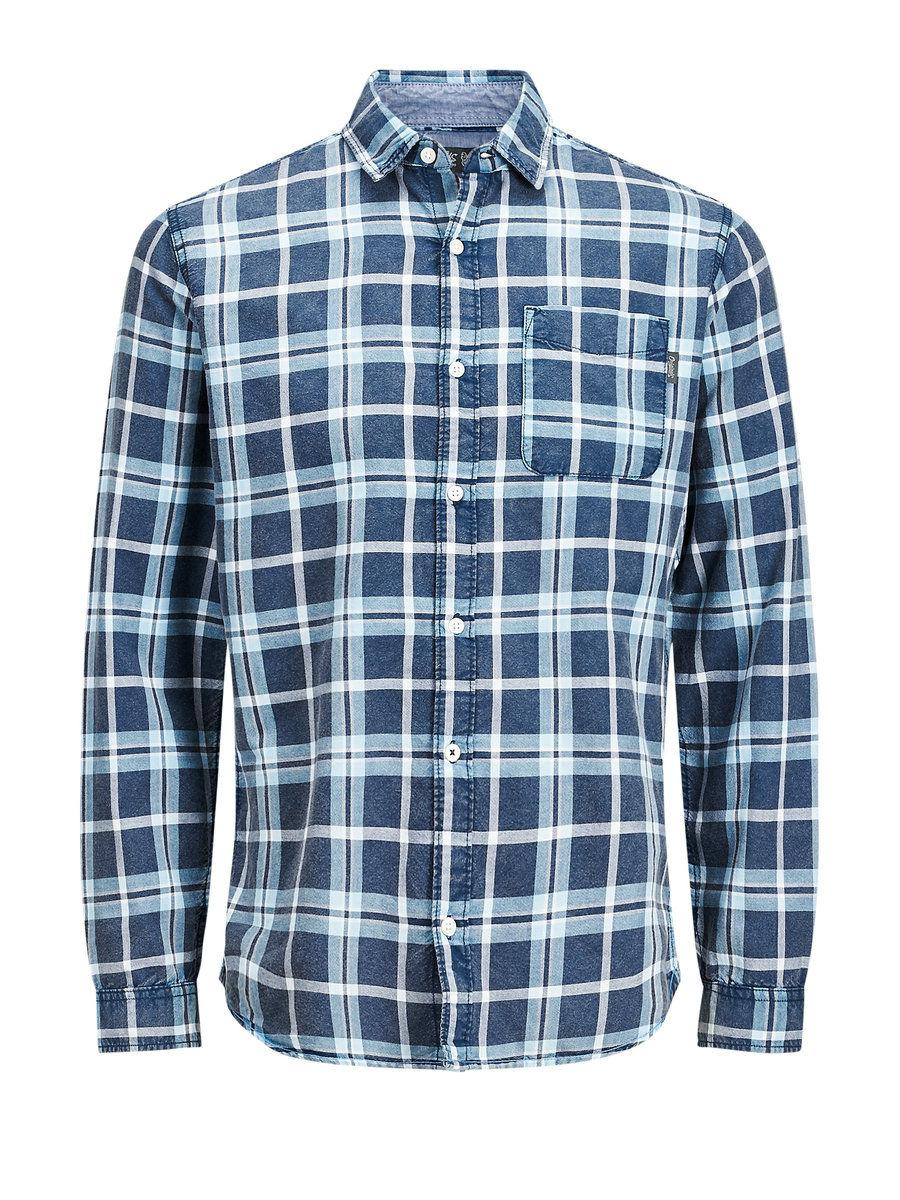teeshirt: (69, 65, 851, 1083)
